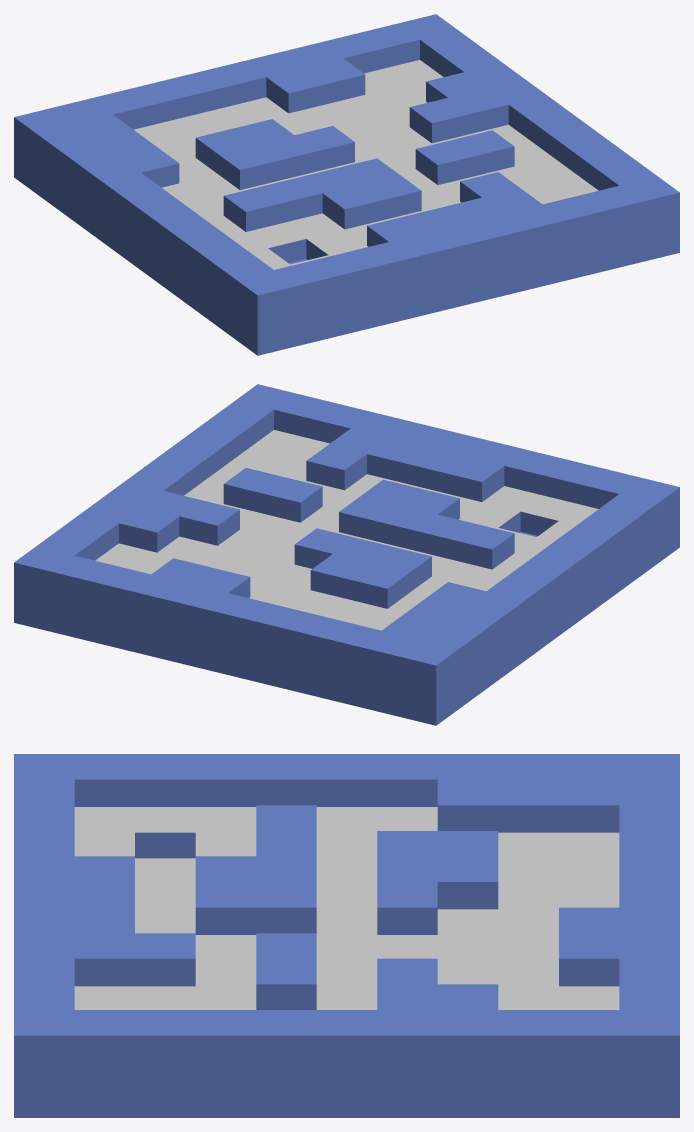
Rendered from 031_platform.fbx.
3 renders of one model, top to bottom at view 1: azimuth 30°, elevation 25°; view 2: azimuth 150°, elevation 25°; view 3: azimuth 270°, elevation 25°, orthographic. The views are drawn at different scales.
Parts seen in each view (by area): view 1: Cube; view 2: Cube; view 3: Cube.
Part boxes in pixels (x1,y1,x2,y2): Cube: (14, 14, 679, 355); Cube: (14, 384, 679, 725); Cube: (14, 754, 679, 1117).
Bounding box in the file's own units: 1100 × 150 × 1100.
